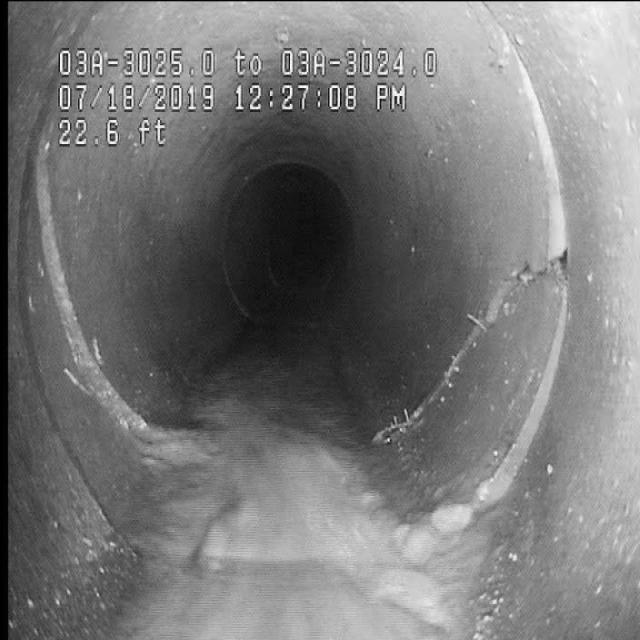Crack: (394, 222, 546, 445)
